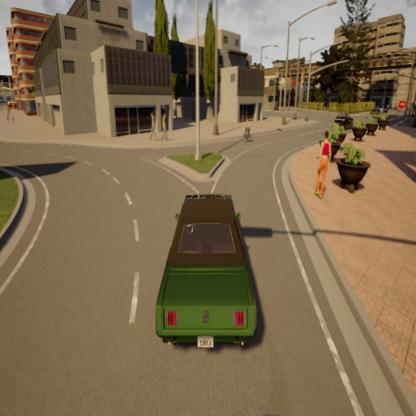Cars: (156, 194, 256, 351), (241, 115, 255, 145), (334, 108, 352, 131)
Pedestrian: (315, 127, 333, 201), (149, 109, 157, 142), (162, 109, 169, 144)
